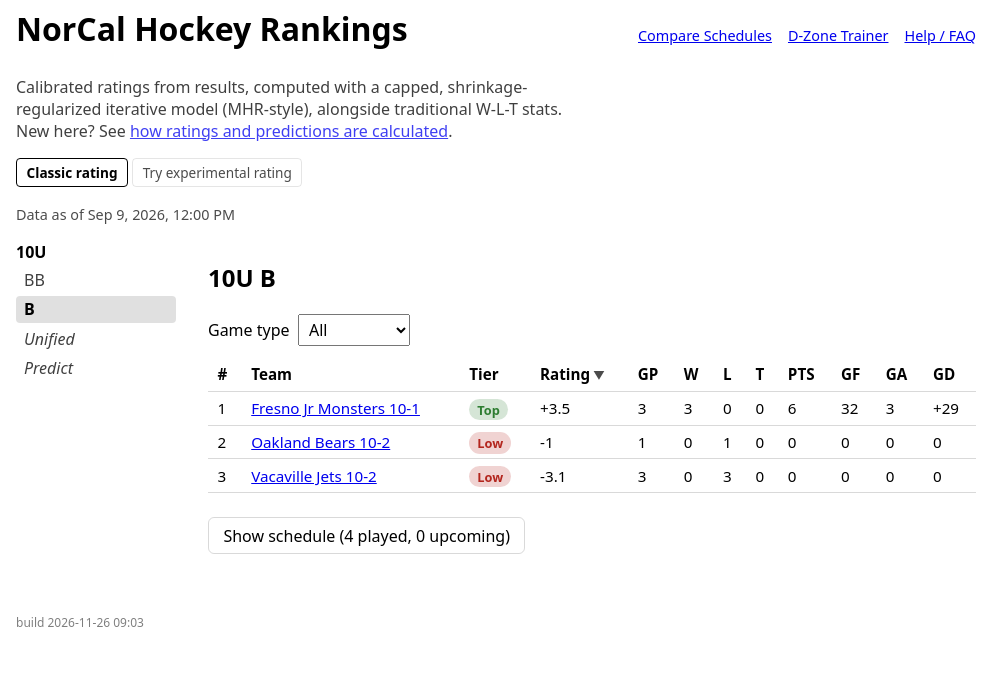
it: App › toggles to the experimental offense/defense rating and back
Check: the link "Fresno Jr Monsters 10-1" is shown, box [251, 398, 420, 418]
Check: the text "Offense" is not shown
Click the button "Try experimental rating" at (217,172), box [132, 158, 302, 187]
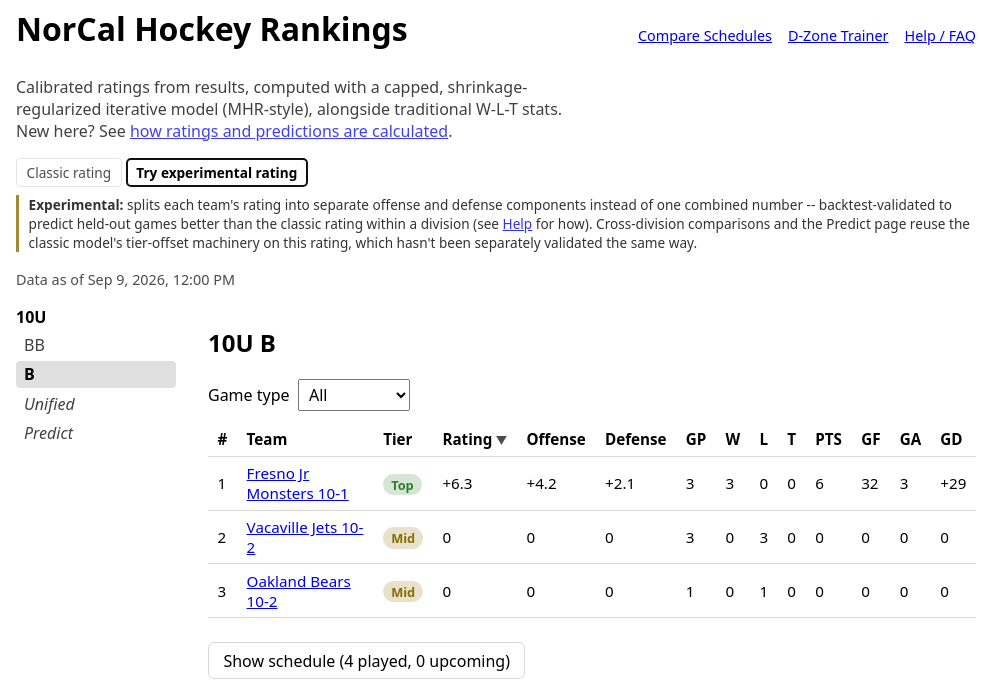
Check: the text "backtest-validated" is shown, box [29, 195, 952, 233]
Check: the button "Offense" is shown, box [526, 430, 586, 450]
Check: the button "Defense" is shown, box [605, 430, 667, 450]
Click the button "Classic rating" at (69,172), box [16, 158, 122, 187]
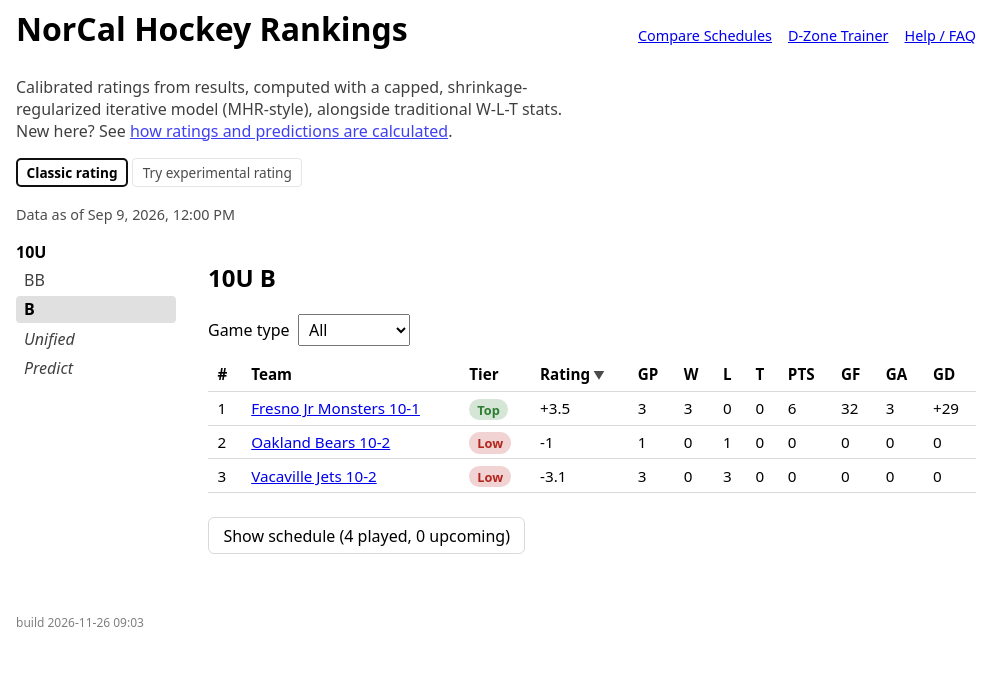
Check: the text "offense" is gone
Check: the text "+3.5" is shown, box [530, 391, 628, 425]
